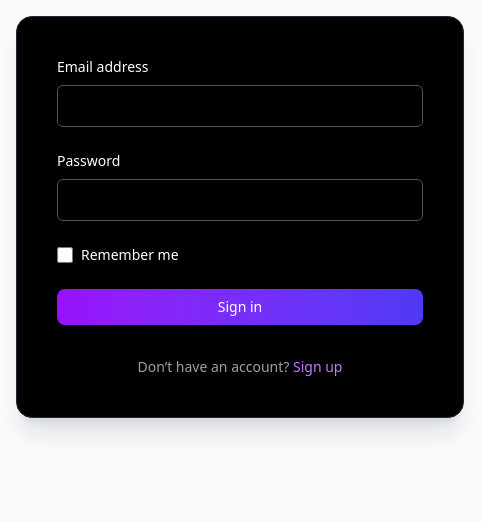
Test: LoginForm - POM style › should show error on invalid credentials
This screenshot has width=481, height=522.
Type "test@test.com" into the field labelled "Email address" at point(240, 106), box [57,85,423,127]
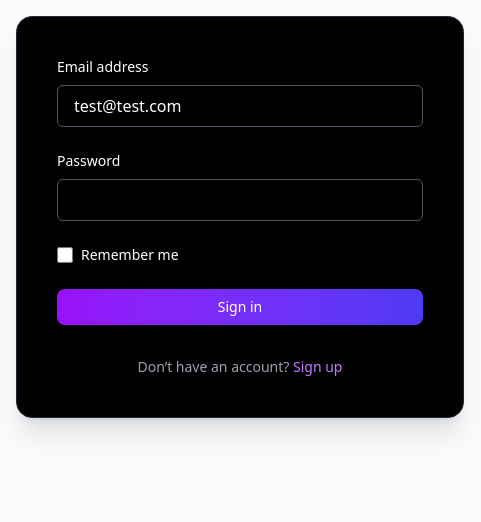
Type "wrongpass" into the password field labelled "Password" at point(240, 200), box [57,179,423,221]
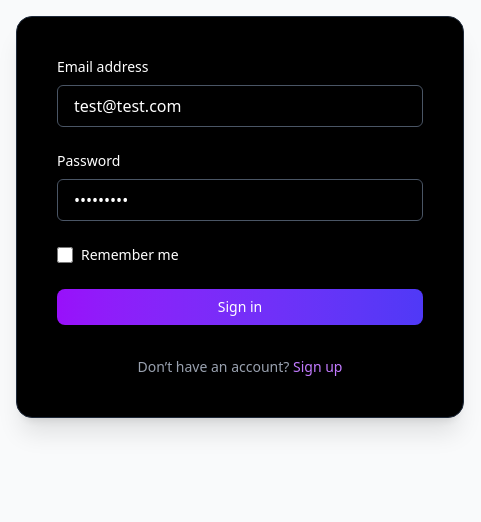
Click the button "Sign in" at point(240, 307), box [57,289,423,325]
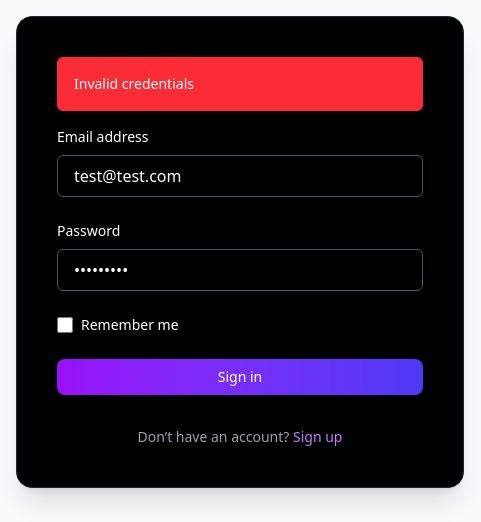
Result: the text "Invalid credentials" is shown at [57,57,423,111]
